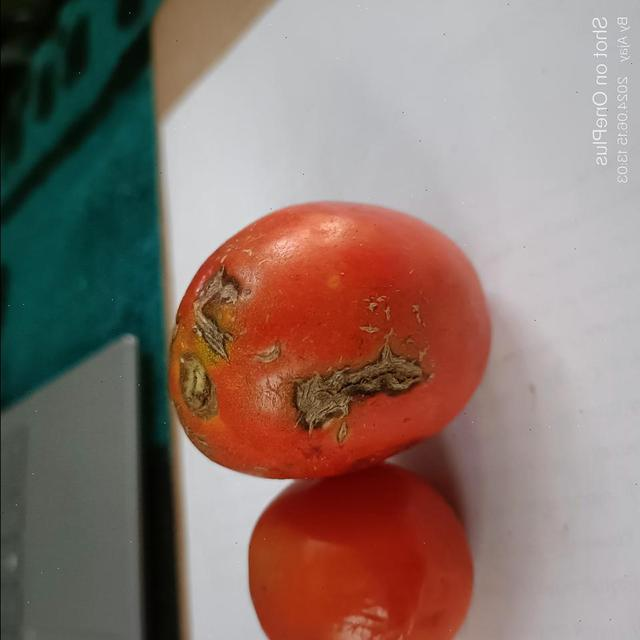Bacterial Spot Fruit: (19, 17, 254, 262)
